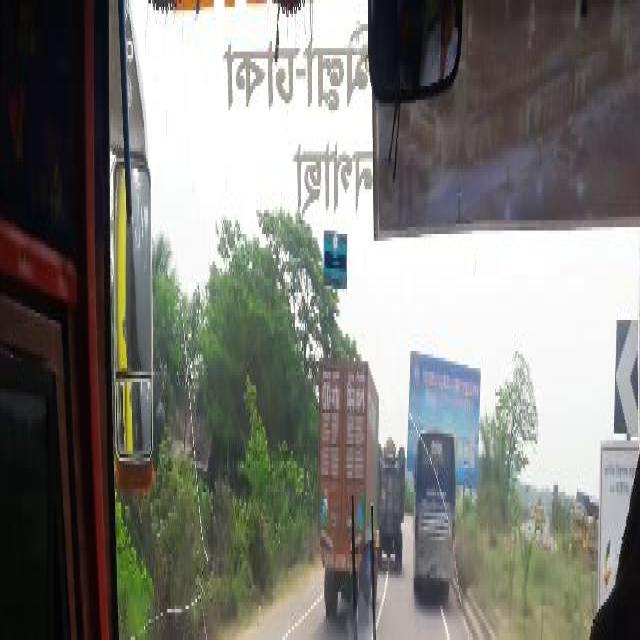vehicle: (320, 361, 380, 612), (415, 433, 456, 594), (380, 440, 405, 567), (573, 498, 597, 564), (535, 498, 544, 529)
